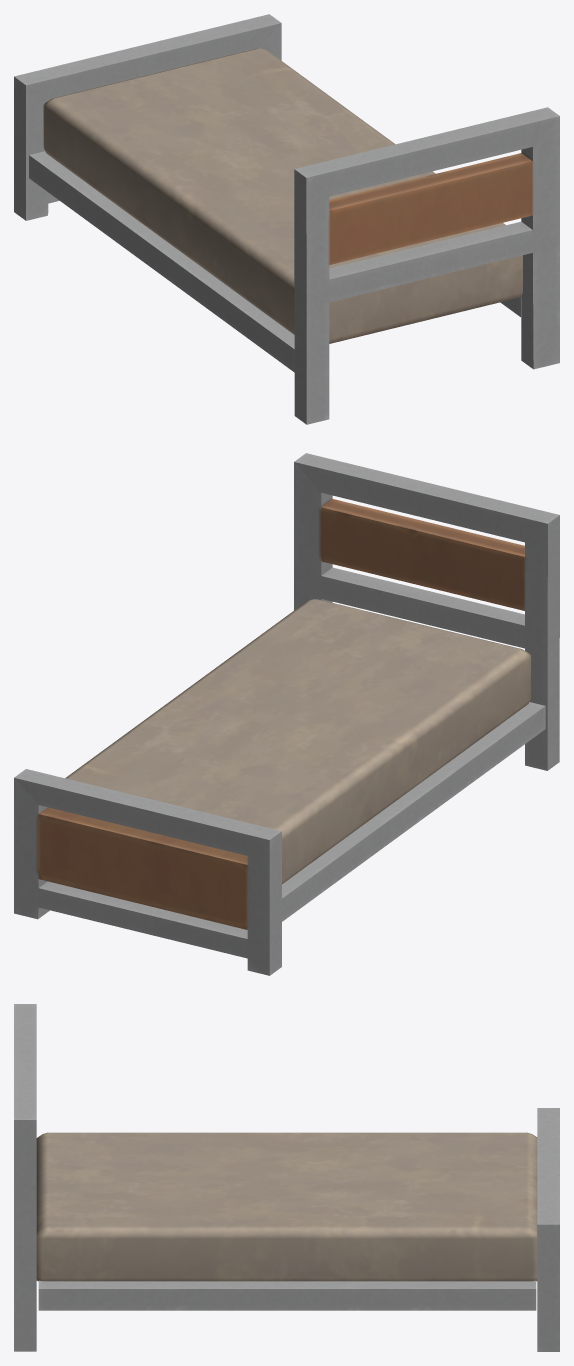
File: Pfb_Indoors_Bedroom_Bed.fbx
3 renders of one model, top to bottom at view 1: azimuth 30°, elevation 25°; view 2: azimuth 150°, elevation 25°; view 3: azimuth 270°, elevation 25°, orthographic. The views are drawn at different scales.
Visible parts, largest first — view 1: Mat_Indoors_Bedroom_01; view 2: Mat_Indoors_Bedroom_01; view 3: Mat_Indoors_Bedroom_01.
Boxes of the visible parts, x1,y1,x2,y2 form: Mat_Indoors_Bedroom_01: [14, 14, 559, 424]; Mat_Indoors_Bedroom_01: [14, 453, 559, 975]; Mat_Indoors_Bedroom_01: [14, 1004, 559, 1351].
Size of the model in its own units: 1.15 by 1.06 by 2.27.
Materials: 1 (1 with a texture image).
